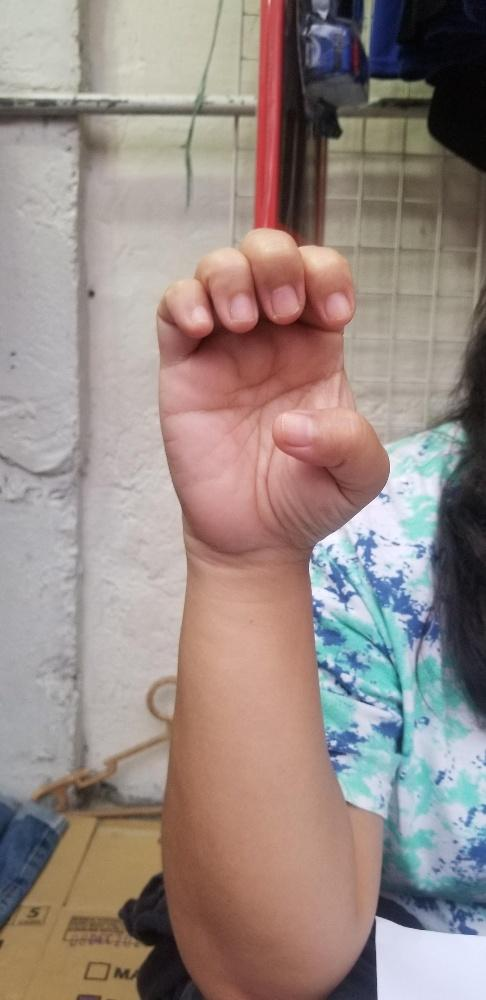e: (154, 225, 389, 549)
